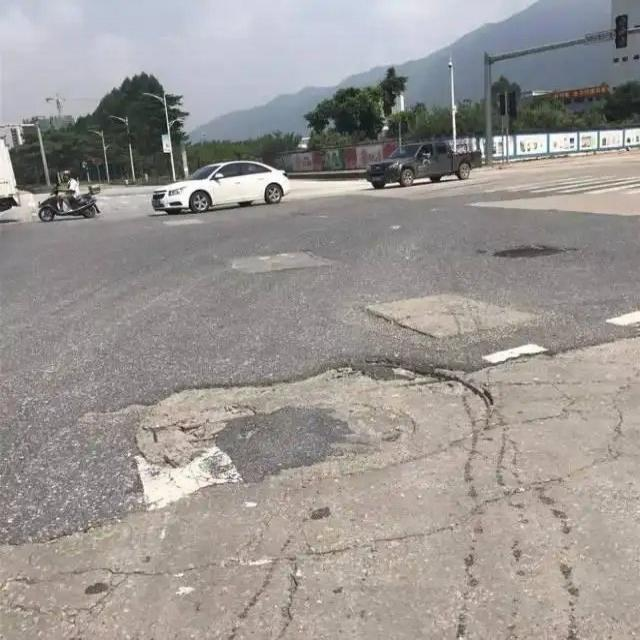Pothole: (117, 358, 512, 517), (472, 238, 580, 266)
